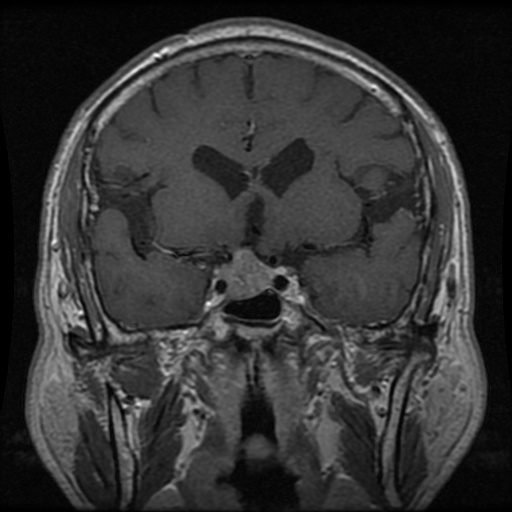pituitary: (220, 248, 273, 297)
